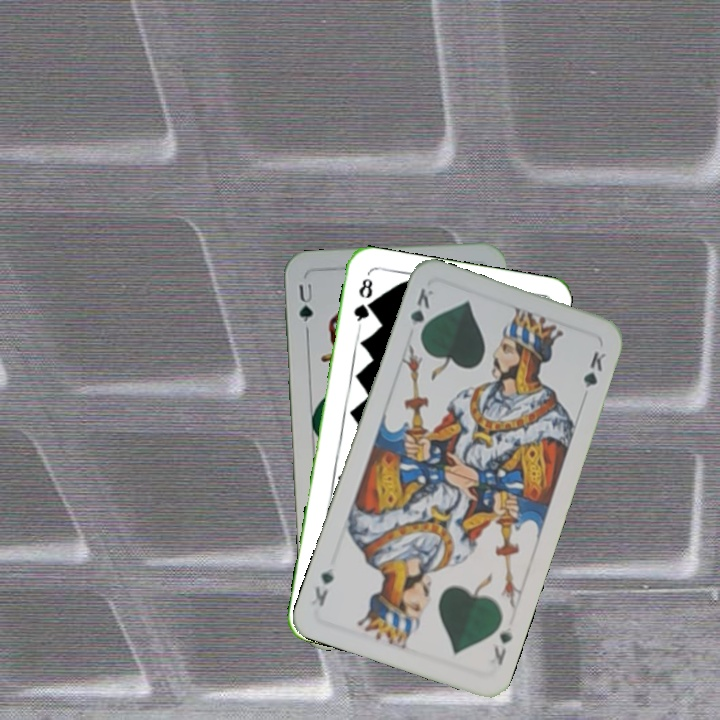G8: (350, 274, 375, 330)
GK: (406, 284, 436, 342), (488, 623, 515, 668)
GU: (294, 279, 316, 335)
